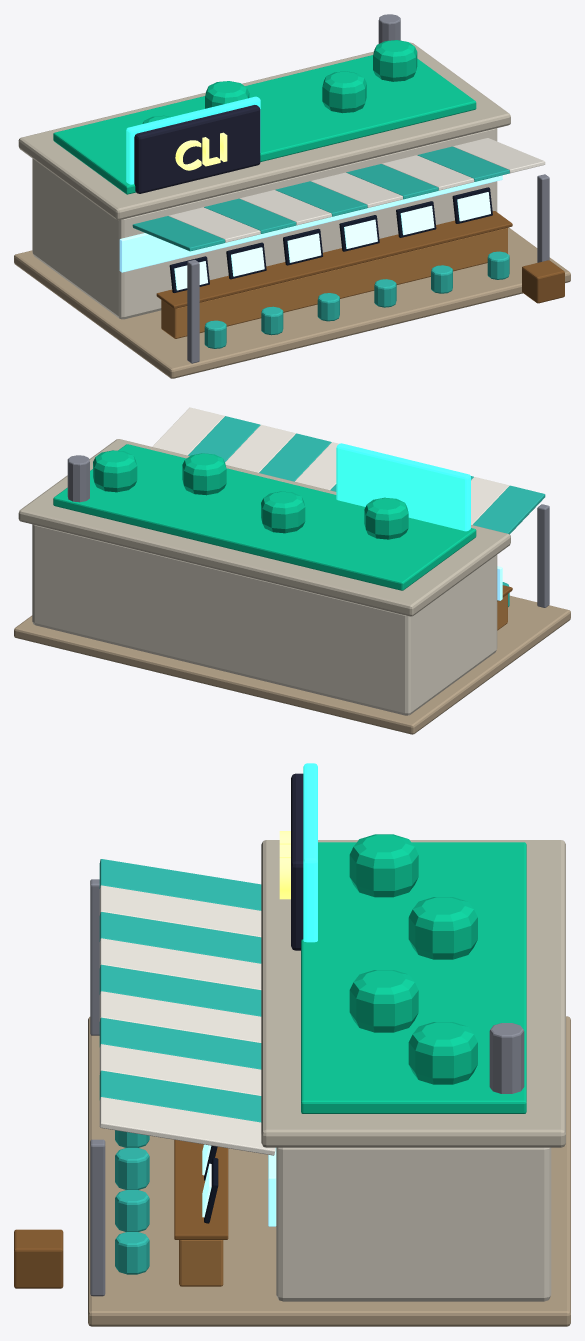
The model's file is terminal-cantina.glb.
3 views of the same model, one above another, from view 1: azimuth 30°, elevation 25°; view 2: azimuth 150°, elevation 25°; view 3: azimuth 270°, elevation 25° (orthographic). The views are drawn at different scales.
Parts seen in each view (by area): view 1: house, plinth.002, roof_garden, roof_slab.001, counter, sign_board.001, counter_top, house_glass, awning_0.001, sign_rim.001, roof_bush_3, roof_bush_2 (+27 smaller); view 2: house, roof_garden, roof_slab.001, plinth.002, sign_rim.001, awning_0.001, awning_6.001, awning_9.001, awning_7.001, roof_bush_2, roof_bush_0, roof_bush_3 (+6 smaller); view 3: roof_garden, house, plinth.002, roof_slab.001, awning_9.001, awning_4.001, awning_6.001, awning_2.001, awning_5.001, awning_0.001, awning_1.001, awning_7.001 (+18 smaller).
Boxes of the visible parts, left/top/right/bottom form: house: left=32, top=128, right=497, bottom=319; plinth.002: left=14, top=227, right=570, bottom=378; roof_garden: left=53, top=55, right=476, bottom=194; roof_slab.001: left=18, top=42, right=510, bottom=220; counter: left=161, top=227, right=507, bottom=338; sign_board.001: left=134, top=105, right=260, bottom=193; counter_top: left=156, top=211, right=512, bottom=308; house_glass: left=119, top=175, right=502, bottom=272; awning_0.001: left=132, top=216, right=225, bottom=251; sign_rim.001: left=126, top=96, right=260, bottom=184; roof_bush_3: left=373, top=40, right=417, bottom=81; roof_bush_2: left=322, top=71, right=366, bottom=113; house: left=32, top=524, right=497, bottom=715; roof_garden: left=53, top=444, right=476, bottom=590; roof_slab.001: left=18, top=439, right=510, bottom=616; plinth.002: left=14, top=595, right=570, bottom=734; sign_rim.001: left=336, top=443, right=470, bottom=531; awning_0.001: left=473, top=485, right=545, bottom=534; awning_6.001: left=259, top=433, right=331, bottom=481; awning_9.001: left=152, top=407, right=224, bottom=455; awning_7.001: left=225, top=425, right=295, bottom=472; roof_bush_2: left=182, top=453, right=226, bottom=495; roof_bush_0: left=364, top=497, right=408, bottom=539; roof_bush_3: left=93, top=450, right=137, bottom=492; roof_garden: left=301, top=842, right=526, bottom=1113; house: left=276, top=1147, right=551, bottom=1301; plinth.002: left=88, top=1016, right=570, bottom=1326; roof_slab.001: left=261, top=840, right=565, bottom=1147; awning_9.001: left=99, top=1097, right=275, bottom=1155; awning_4.001: left=99, top=964, right=261, bottom=1016; awning_6.001: left=99, top=1017, right=261, bottom=1069; awning_2.001: left=99, top=912, right=261, bottom=963; awning_5.001: left=99, top=991, right=261, bottom=1042; awning_0.001: left=99, top=859, right=261, bottom=910; awning_1.001: left=99, top=885, right=261, bottom=937; awning_7.001: left=99, top=1044, right=261, bottom=1095.
Size of the model in its own units: 14.3 by 6.5 by 11.3.
